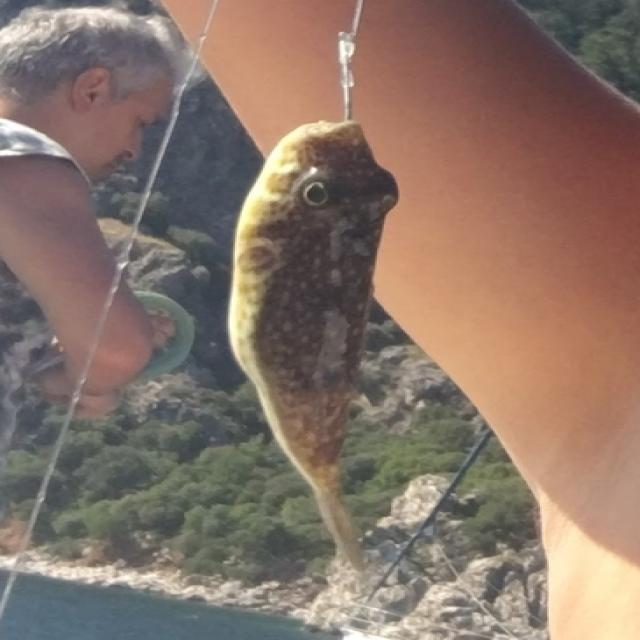Balik: (230, 121, 398, 569)
